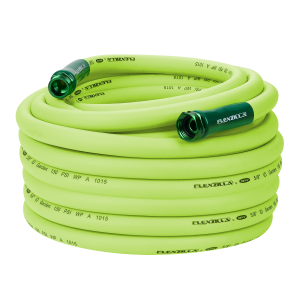Nonrec_Tangler: (3, 36, 293, 253)
